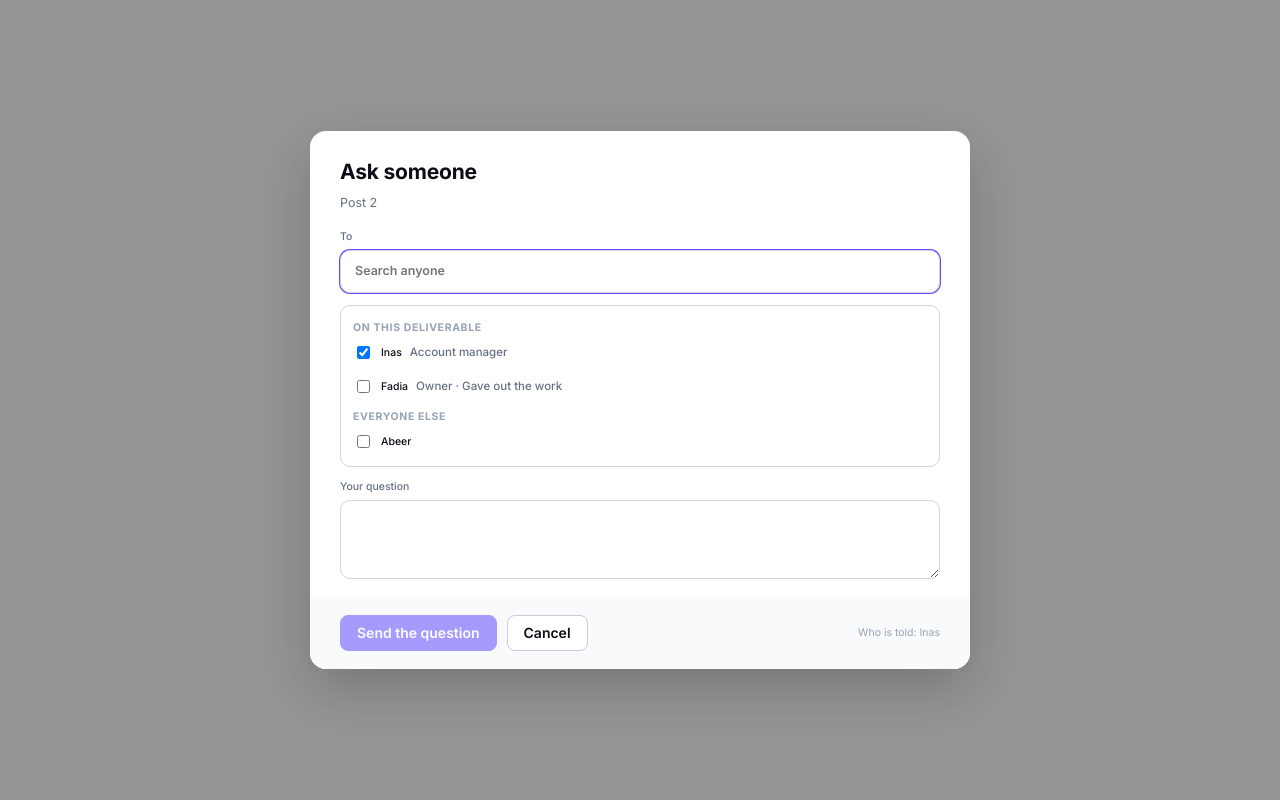
Ask someone (ADR-0113 d.2) › searches anyone by name
Type "abe" into the search field with test id "ask-search".
click(640, 271); type("abe")  # box [340,250,940,292]
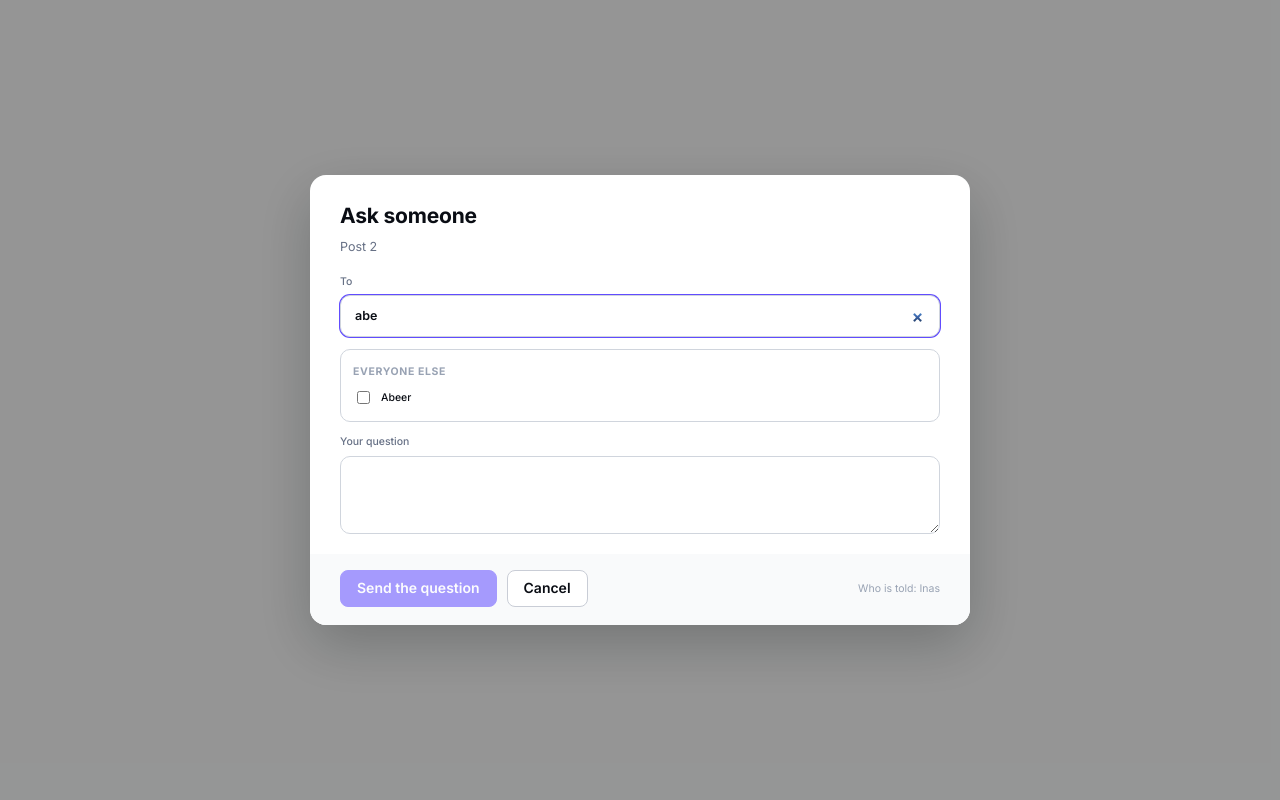
Check: the checkbox with test id "ask-person-abeer" is shown, box [357,391,370,404]
Check: the checkbox with test id "ask-person-own" is gone
